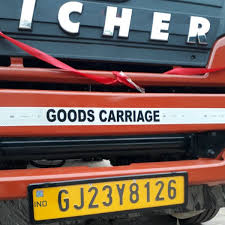numberplate: (32, 171, 187, 223)
